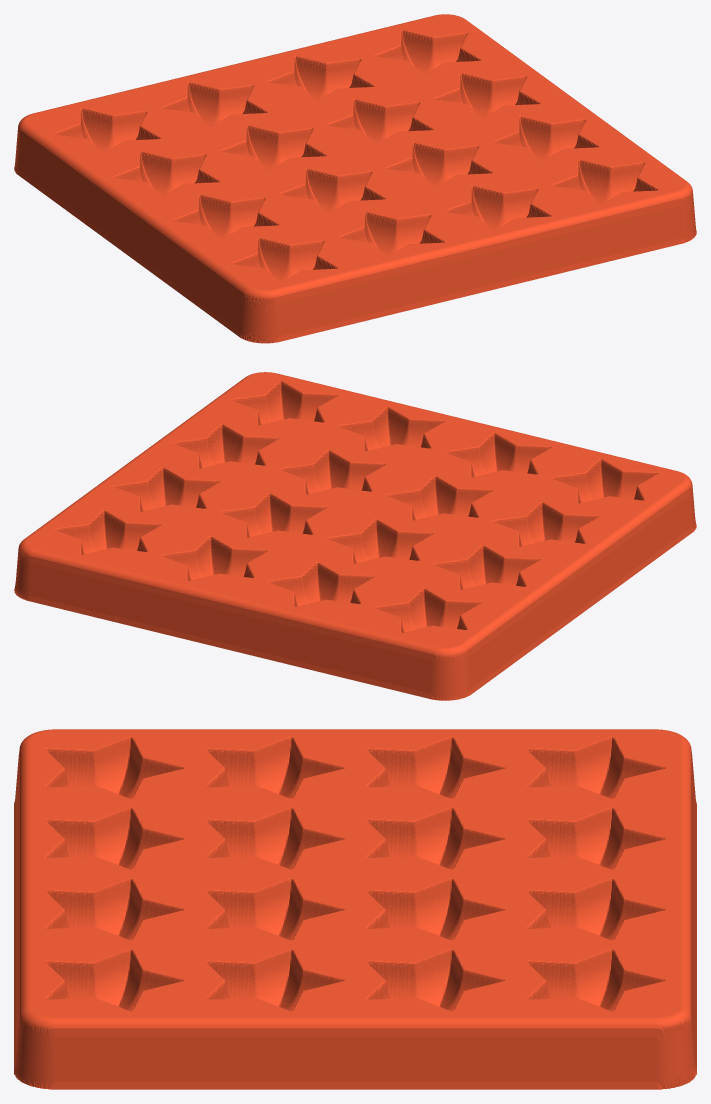
The model's file is mold.glb.
3 views of the same model, one above another, from view 1: azimuth 30°, elevation 25°; view 2: azimuth 150°, elevation 25°; view 3: azimuth 270°, elevation 25° (orthographic). The views are drawn at different scales.
Parts seen in each view (by area): view 1: geometry_0; view 2: geometry_0; view 3: geometry_0.
Part boxes in pixels (left/top/right/bottom): geometry_0: left=14, top=14, right=696, bottom=343; geometry_0: left=14, top=372, right=696, bottom=700; geometry_0: left=14, top=729, right=696, bottom=1089.
Size of the model in its own units: 0.1569 by 0.0159 by 0.1507.
